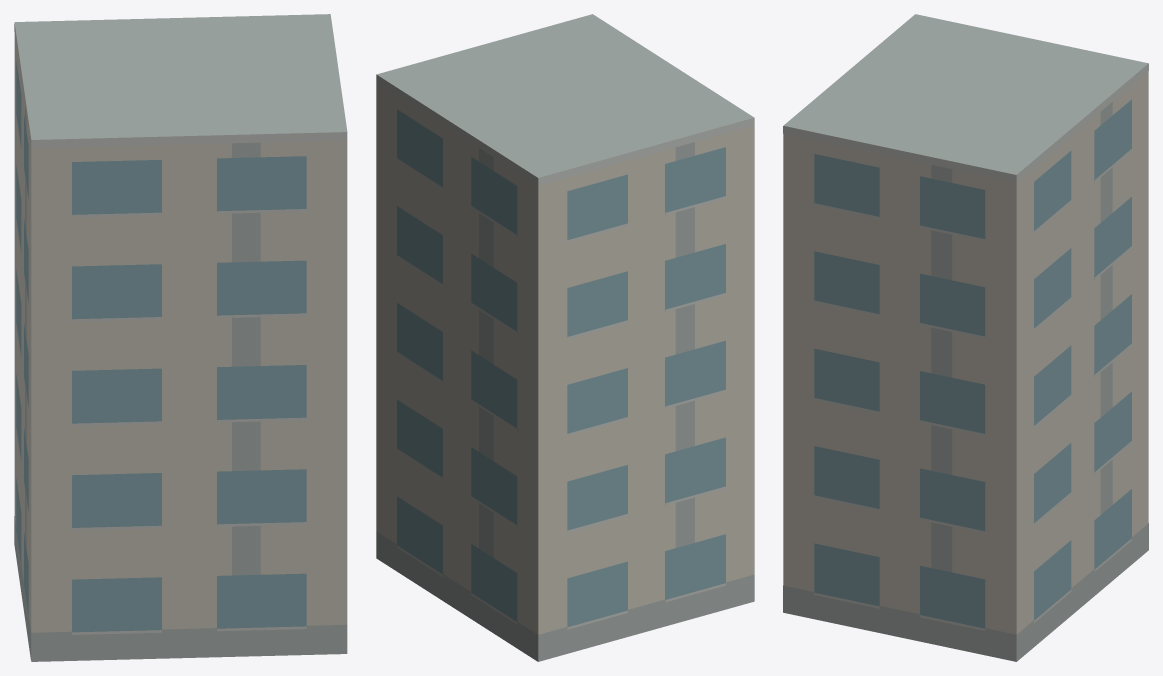
File: residential-86fd4d01-a6c7-4af2-bf49-d570c2fcaff0.glb
3 views of the same model, side by side, from view 1: azimuth 30°, elevation 25°; view 2: azimuth 150°, elevation 25°; view 3: azimuth 270°, elevation 25° (orthographic). The views are drawn at different scales.
Visible parts, largest first — view 1: residential-86fd4d01-a6c7-4af2-bf49-d570c2fcaff0.tmp; view 2: residential-86fd4d01-a6c7-4af2-bf49-d570c2fcaff0.tmp; view 3: residential-86fd4d01-a6c7-4af2-bf49-d570c2fcaff0.tmp.
Boxes of the visible parts, <box> form: residential-86fd4d01-a6c7-4af2-bf49-d570c2fcaff0.tmp: <box>14,14,347,661</box>; residential-86fd4d01-a6c7-4af2-bf49-d570c2fcaff0.tmp: <box>376,14,754,661</box>; residential-86fd4d01-a6c7-4af2-bf49-d570c2fcaff0.tmp: <box>783,14,1148,661</box>.
Bounding box in the file's own units: 10.82 × 15.25 × 10.39.
